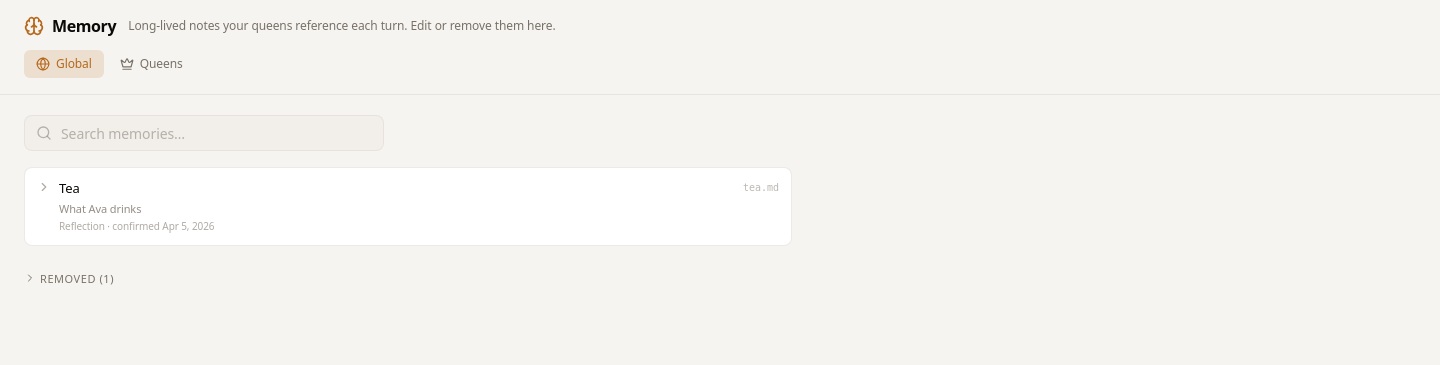
Test case: MemoryLibrary › lists what was removed and restores it
Click the button "Removed (1)" at (69, 278), box [24, 270, 114, 287]
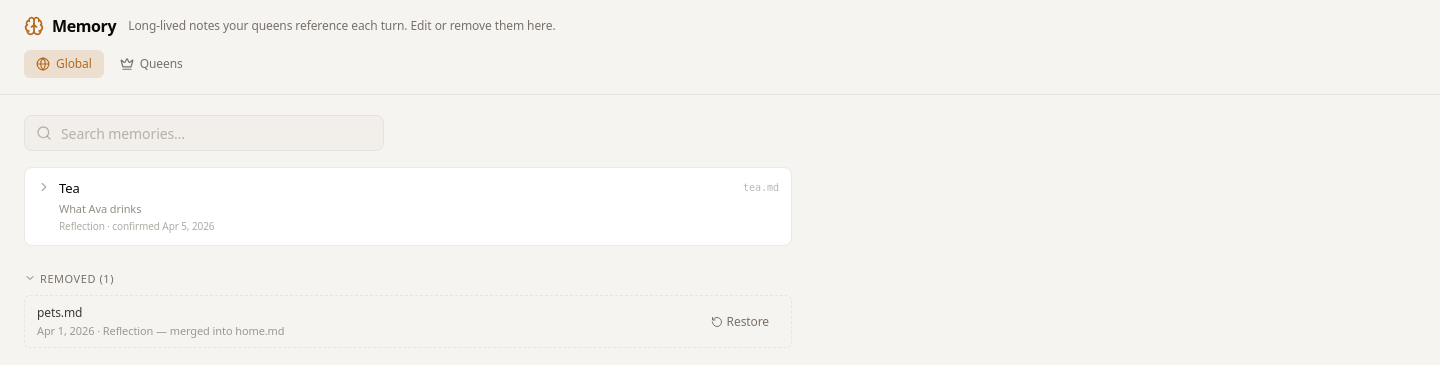
expect the text "Apr 1, 2026 · Reflection — merged into home.md" is shown: met, box [37, 323, 284, 338]
Click the button "Restore" at (740, 322), box [701, 310, 779, 334]
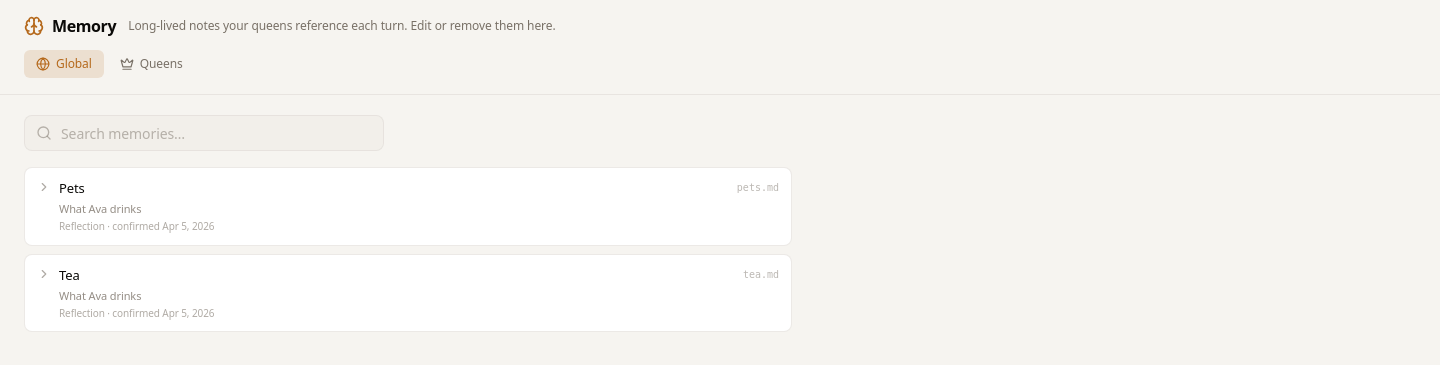
expect the text "Pets" is shown: met, box [59, 179, 85, 197]
expect the button "Removed (1)" is gone: met
